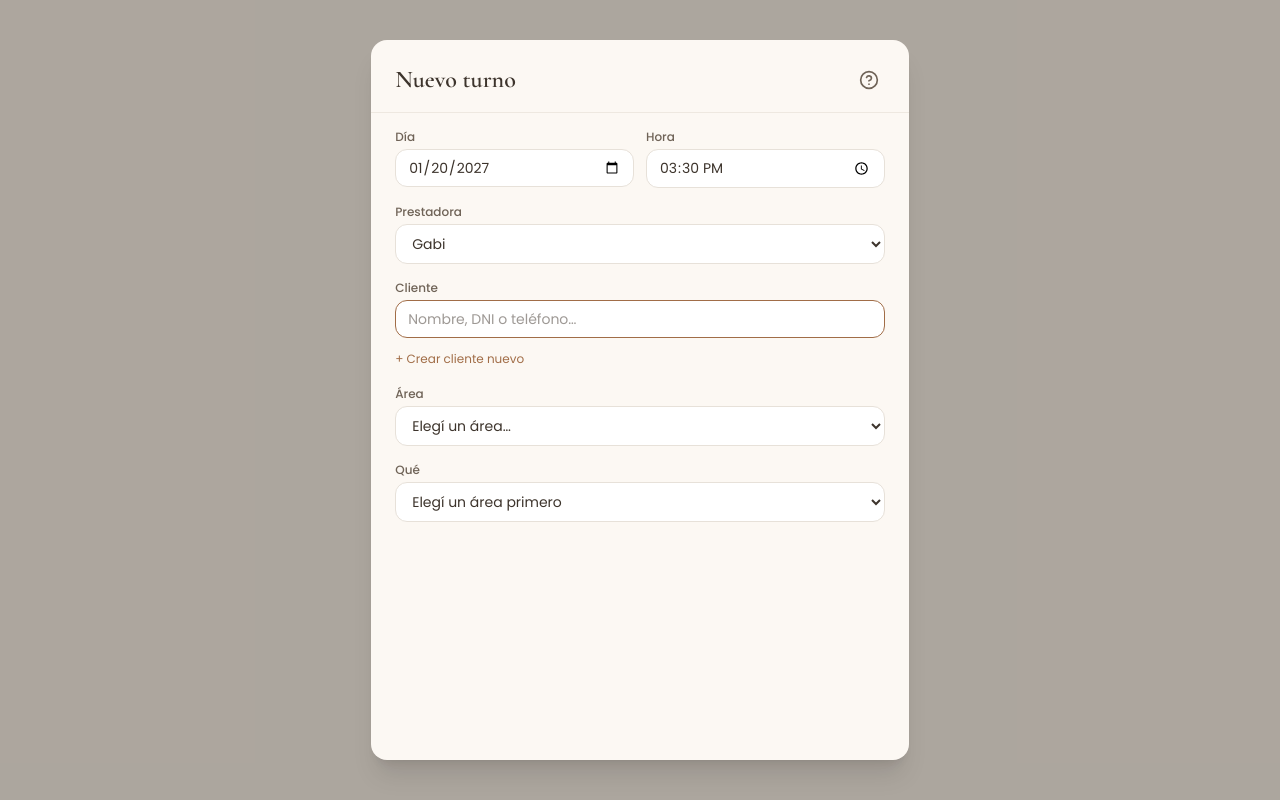
Test: NuevoTurnoModal — la ayuda › Volver no rompe aunque scrollIntoView devuelva una promesa (Chrome nuevo)
This screenshot has width=1280, height=800.
Click the button named "Cómo cargar un turno" at (869, 80), box [853,64,885,96]
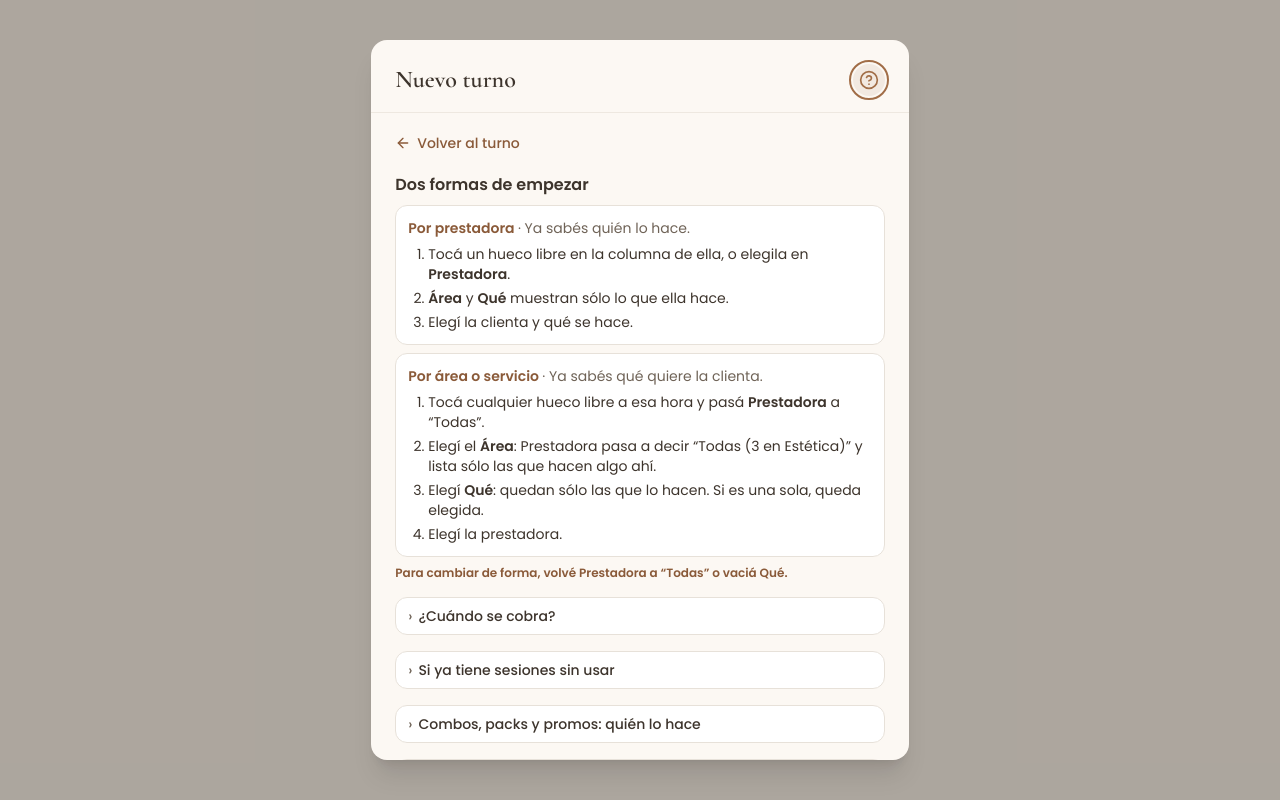
Click the button "Volver al turno" at (458, 143), box [387,129,528,157]
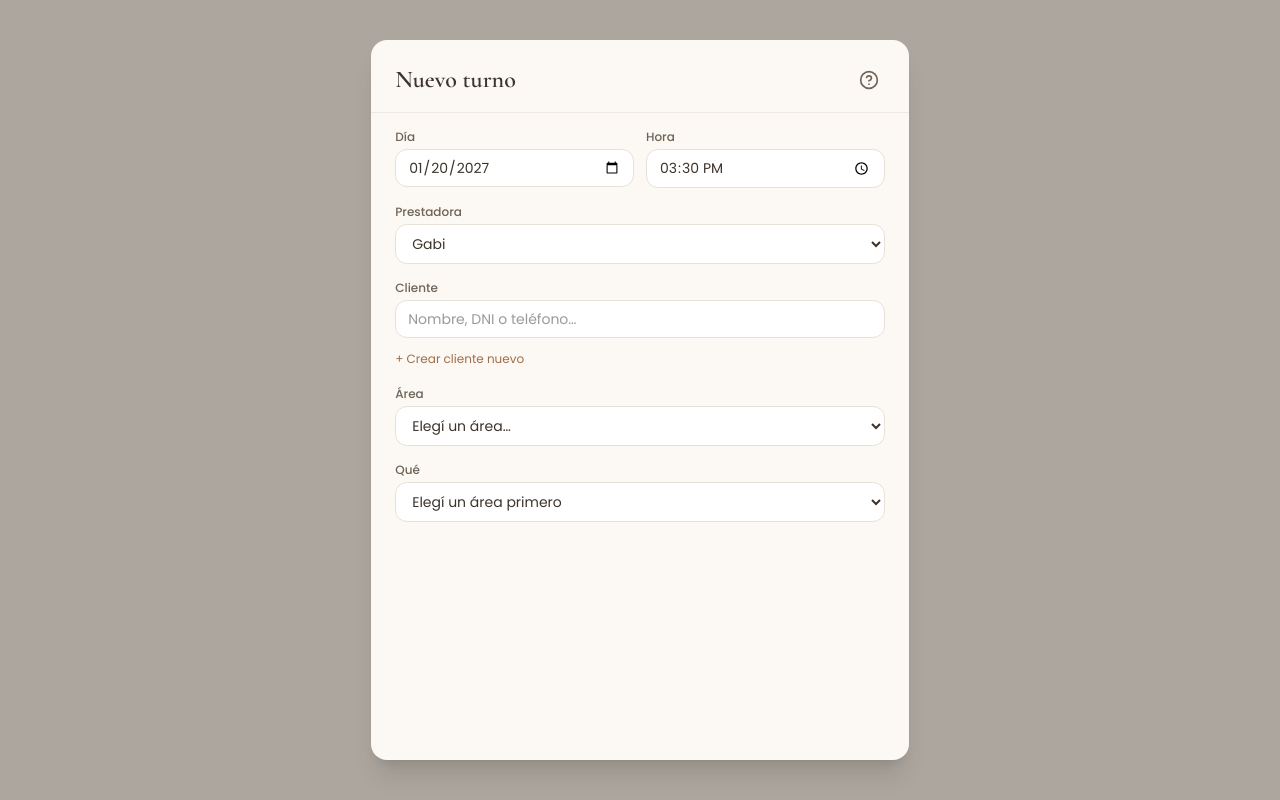
Expected: the date field labelled "Día" is shown, [395,149,634,187]
